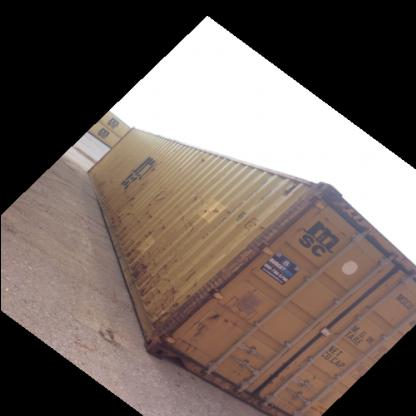Damage: (122, 242, 204, 322), (105, 206, 137, 238), (205, 307, 240, 331), (174, 205, 197, 236), (198, 206, 235, 220), (141, 194, 155, 226), (92, 169, 115, 185), (194, 148, 210, 164), (122, 188, 137, 202), (160, 214, 168, 230), (187, 188, 197, 200), (257, 218, 263, 227)
